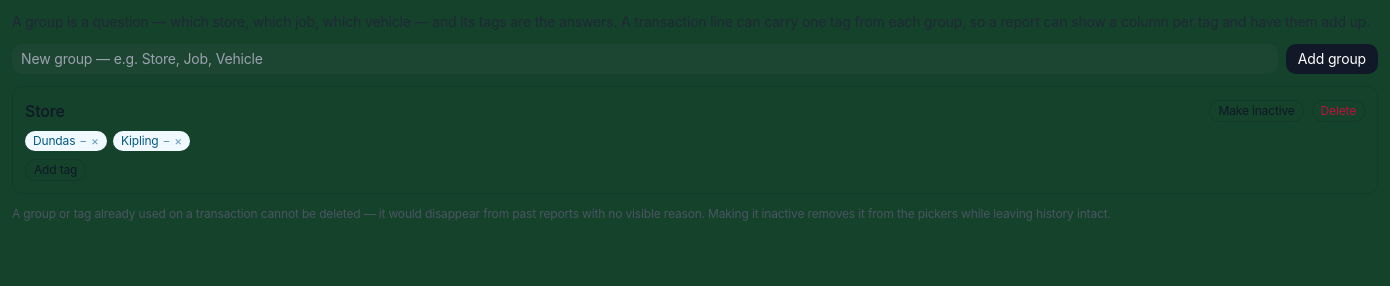
Test: keeping history readable › surfaces a refused delete instead of appearing to work
Click the button "Delete".
click(1338, 111)  # box [1312,100,1365,122]
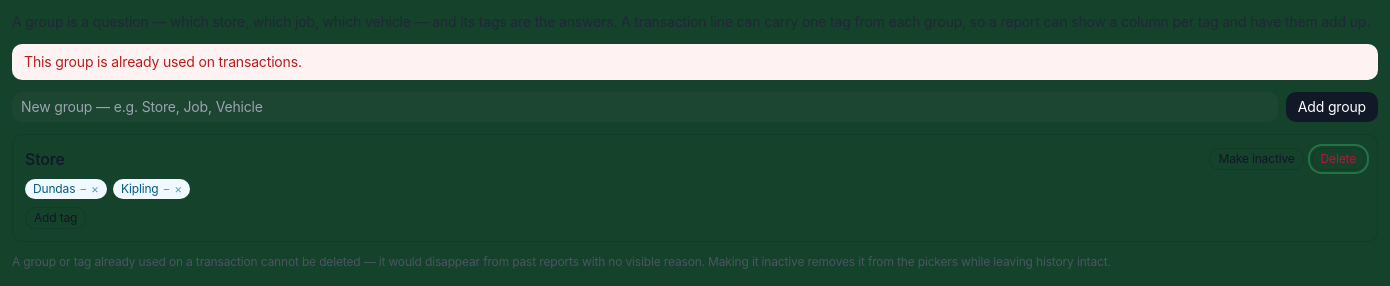
Result: the text "This group is already used on transactions." is shown at [12,44,1378,80]
